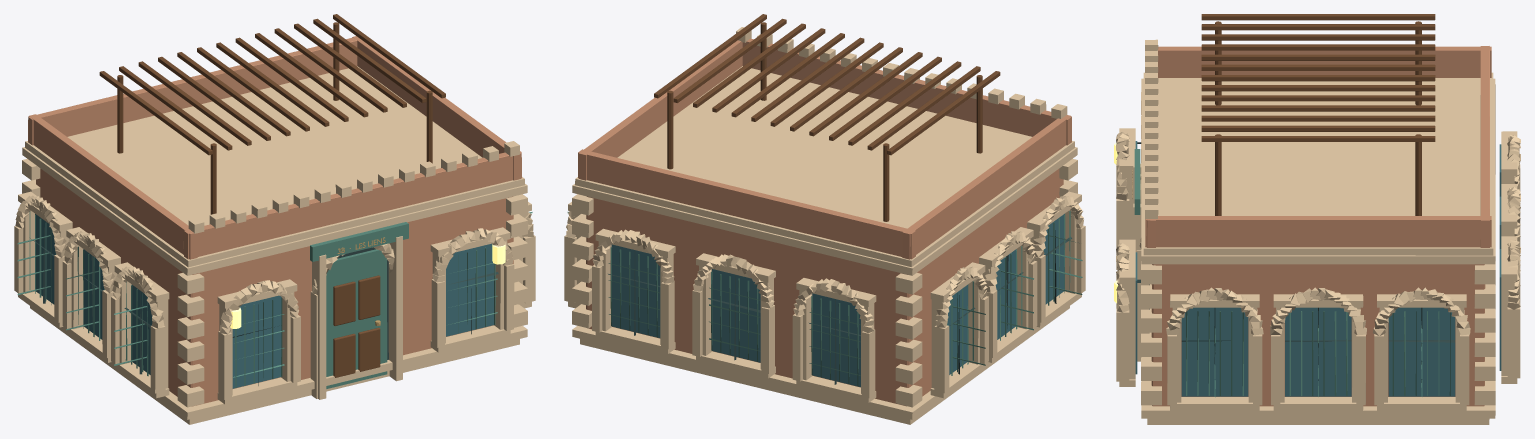
The model's file is maroc-1-lod.glb.
3 views of the same model, side by side, from view 1: azimuth 30°, elevation 25°; view 2: azimuth 150°, elevation 25°; view 3: azimuth 270°, elevation 25° (orthographic). The views are drawn at different scales.
Visible parts, largest first — view 1: maroc-1_Dressed stone.001, maroc-1_Masonry plaster.001, maroc-1_Walnut.001, maroc-1_Window blue.001, maroc-1_Regional painted wood.001, maroc-1_Forged midnight.001; view 2: maroc-1_Dressed stone.001, maroc-1_Masonry plaster.001, maroc-1_Window blue.001, maroc-1_Walnut.001, maroc-1_Regional painted wood.001, maroc-1_Forged midnight.001; view 3: maroc-1_Dressed stone.001, maroc-1_Masonry plaster.001, maroc-1_Walnut.001, maroc-1_Window blue.001, maroc-1_Regional painted wood.001, maroc-1_Forged midnight.001.
Part boxes in pixels (x1,y1,x2,y2): maroc-1_Dressed stone.001: (14, 66, 535, 424); maroc-1_Masonry plaster.001: (28, 36, 521, 406); maroc-1_Walnut.001: (99, 14, 445, 377); maroc-1_Window blue.001: (35, 214, 494, 388); maroc-1_Regional painted wood.001: (17, 211, 532, 388); maroc-1_Forged midnight.001: (30, 227, 498, 385); maroc-1_Dressed stone.001: (564, 27, 1085, 424); maroc-1_Masonry plaster.001: (578, 38, 1071, 406); maroc-1_Window blue.001: (611, 213, 1064, 386); maroc-1_Walnut.001: (654, 14, 1000, 221); maroc-1_Regional painted wood.001: (567, 211, 1082, 386); maroc-1_Forged midnight.001: (608, 230, 1071, 384); maroc-1_Dressed stone.001: (1116, 39, 1520, 424); maroc-1_Masonry plaster.001: (1145, 46, 1491, 406); maroc-1_Walnut.001: (1201, 14, 1435, 215); maroc-1_Window blue.001: (1135, 141, 1501, 396); maroc-1_Regional painted wood.001: (1134, 149, 1450, 397); maroc-1_Forged midnight.001: (1137, 142, 1455, 382).
Size of the model in its own units: 15.5 by 8.66 by 12.19.
